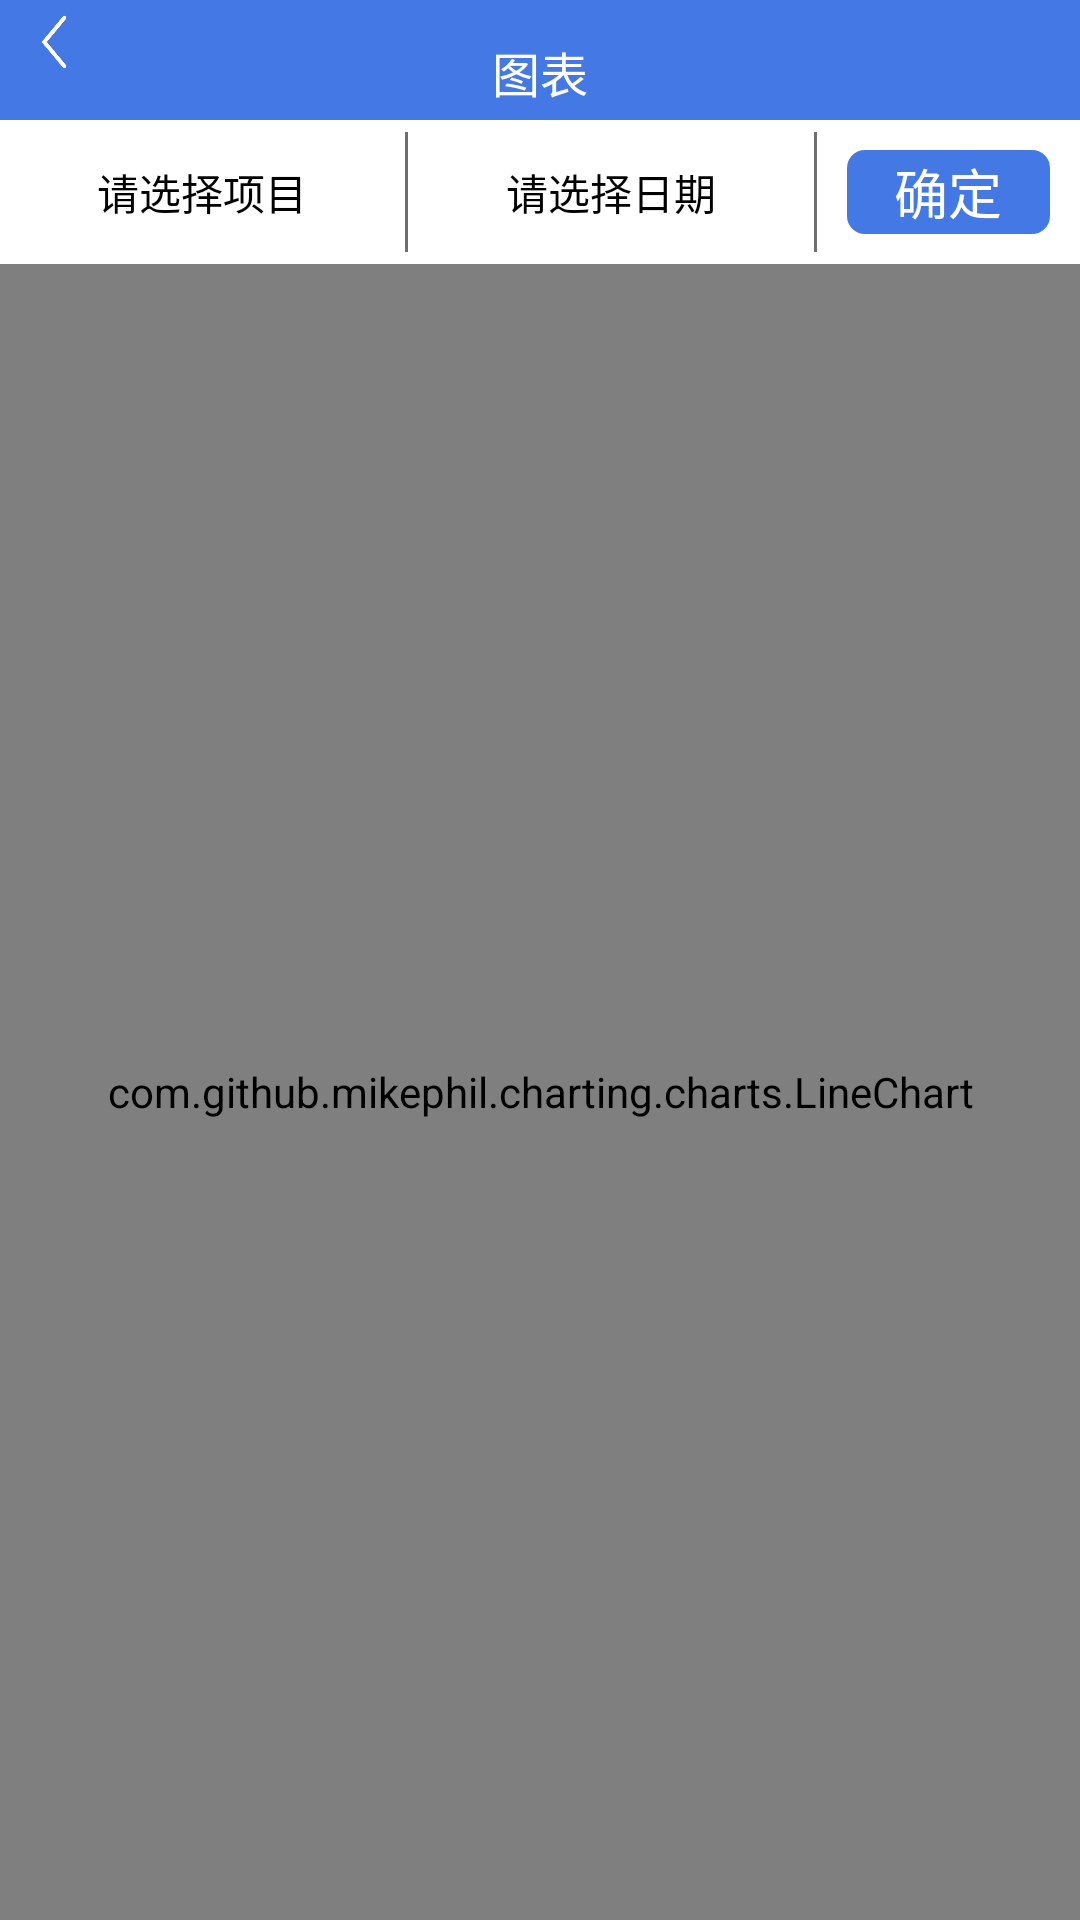

Where icons sit on this 1080 × 1920 app screen, as (x1, y1, x2, y2):
back: (42, 16, 66, 68)
